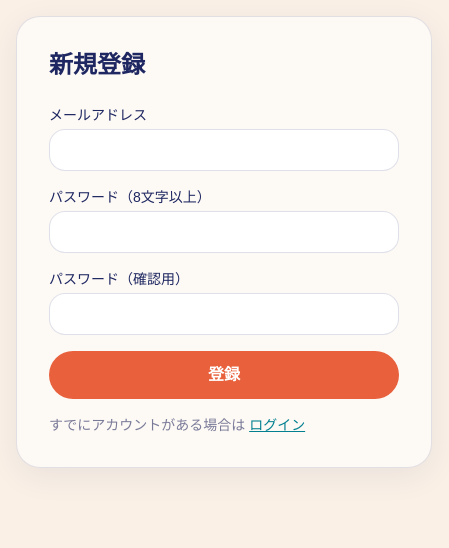
Test: RegisterPage (結合寄り) › パスワード8文字未満でエラー
Expected: the heading "新規登録" is shown, [49,51,145,78]
Type "user@example.com" into the field at (224, 150), box [49,129,399,171]
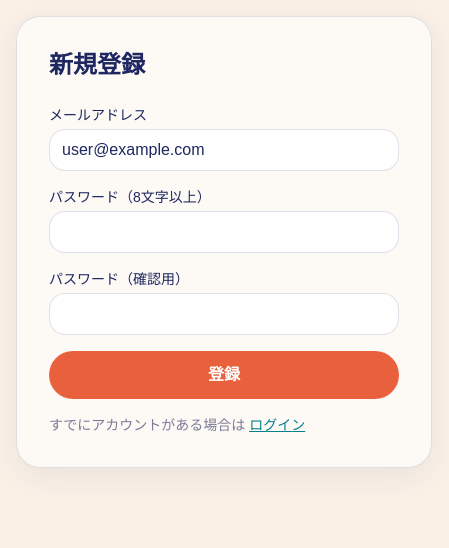
Type "short" into the password field below "パスワード（8文字以上）" at (224, 232), box [49,211,399,253]
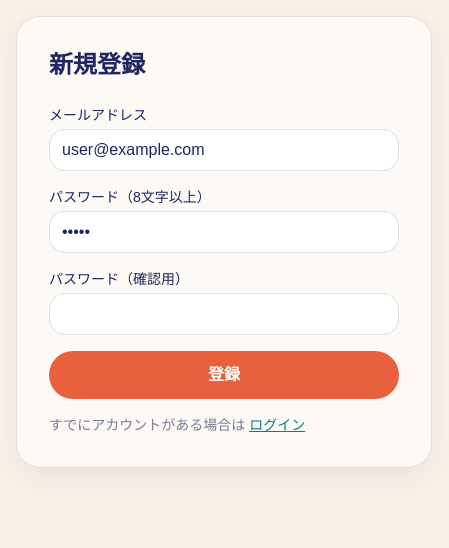
Type "short" into the password field below "パスワード（確認用）" at (224, 314), box [49,293,399,335]
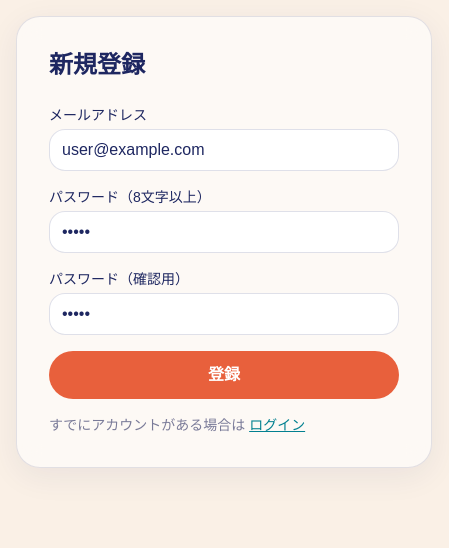
Click the button "登録" at (224, 375), box [49,351,399,399]
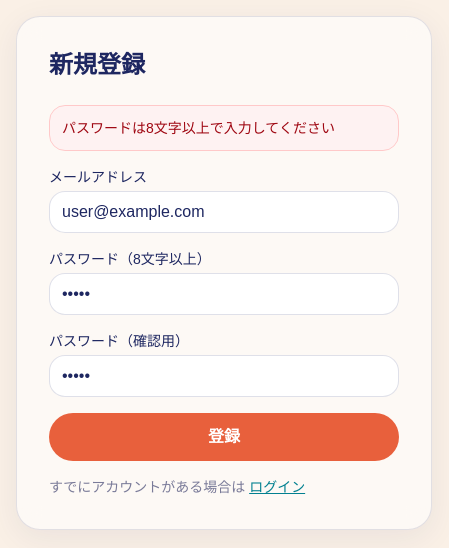
Expected: the text "パスワードは8文字以上で入力してください" is shown, [49,105,399,151]
